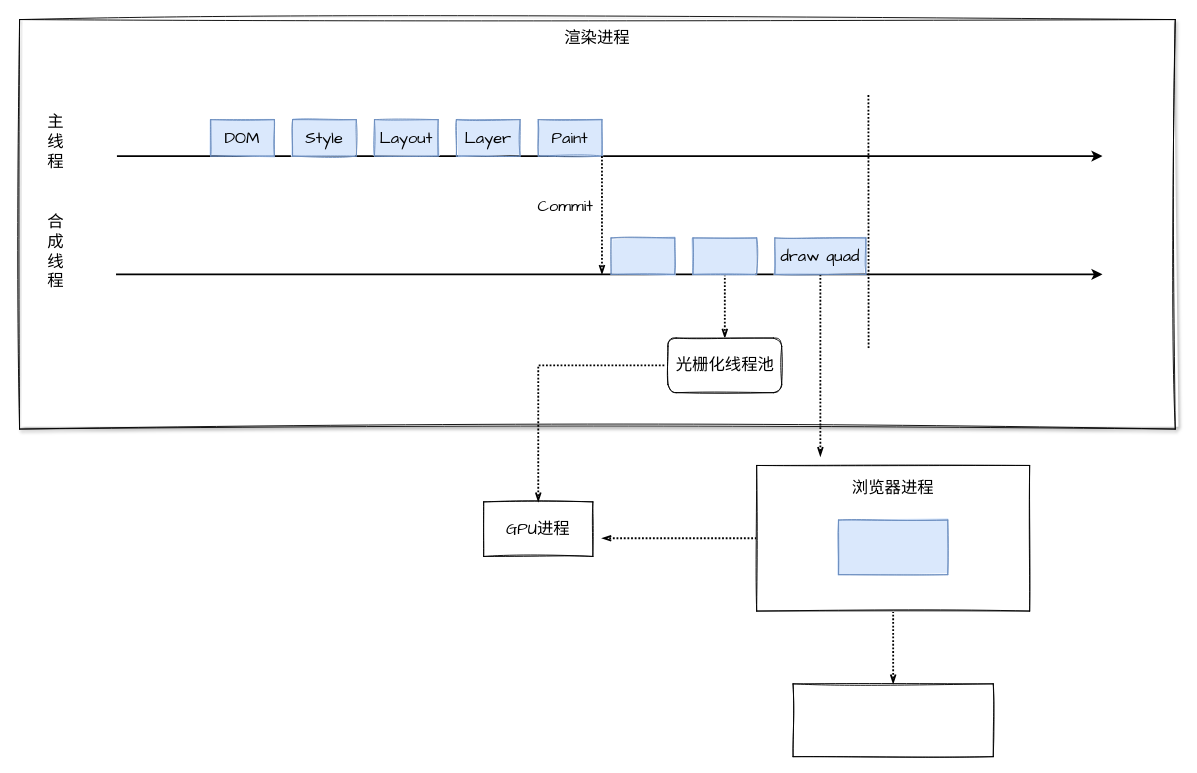
Image size: 1197x773. Some labels were removed from this diagram. The shapes that lost their labels are listed below. From the top down, each one's centre as x and y in pixels, then its label:
At pixel 642 255: "tiles".
At pixel 724 255: "raster".
At pixel 893 547: "display".
At pixel 892 720: "显示器".
